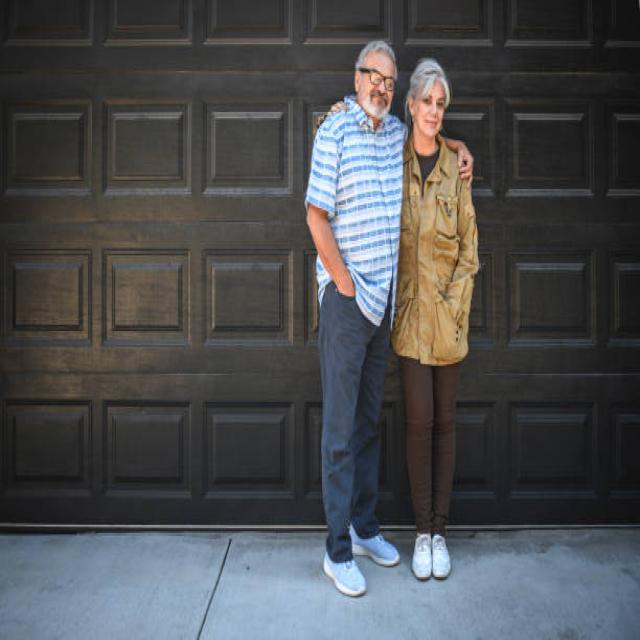Real human 2: (300, 32, 504, 630)
